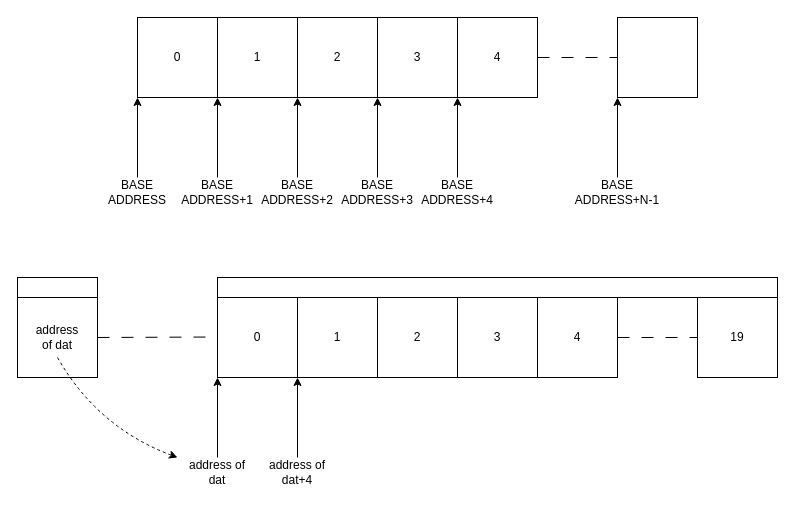
Image size: 795x505. Some labels were removed from this diagram. Each missing label, with the centre of its shape:
"Block of 20 integers in memory" goes at point 497,287.
"N-1" goes at point 657,57.
"variable dat" goes at point 57,287.
